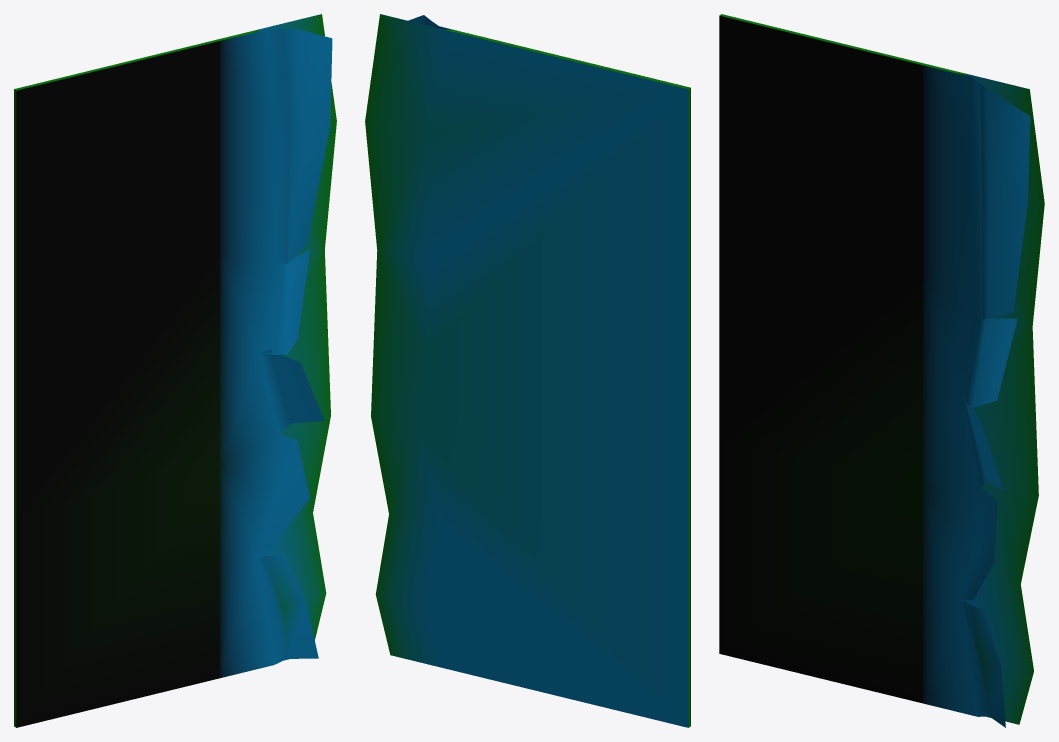
The model's file is DBK_Drywall_Side_B_Single.fbx.
3 renders of one model, left to right at view 1: azimuth 30°, elevation 25°; view 2: azimuth 150°, elevation 25°; view 3: azimuth 330°, elevation 25°, orthographic.
Parts seen in each view (by area): view 1: DBK_Drywall_Side_B_Single; view 2: DBK_Drywall_Side_B_Single; view 3: DBK_Drywall_Side_B_Single.
Part boxes in pixels (box(x1,y1,x2,y2)): DBK_Drywall_Side_B_Single: box(14, 14, 336, 727); DBK_Drywall_Side_B_Single: box(365, 14, 690, 727); DBK_Drywall_Side_B_Single: box(719, 14, 1044, 727).
Size of what is drawn, in the model's own units: 159 by 300 by 12.37.
